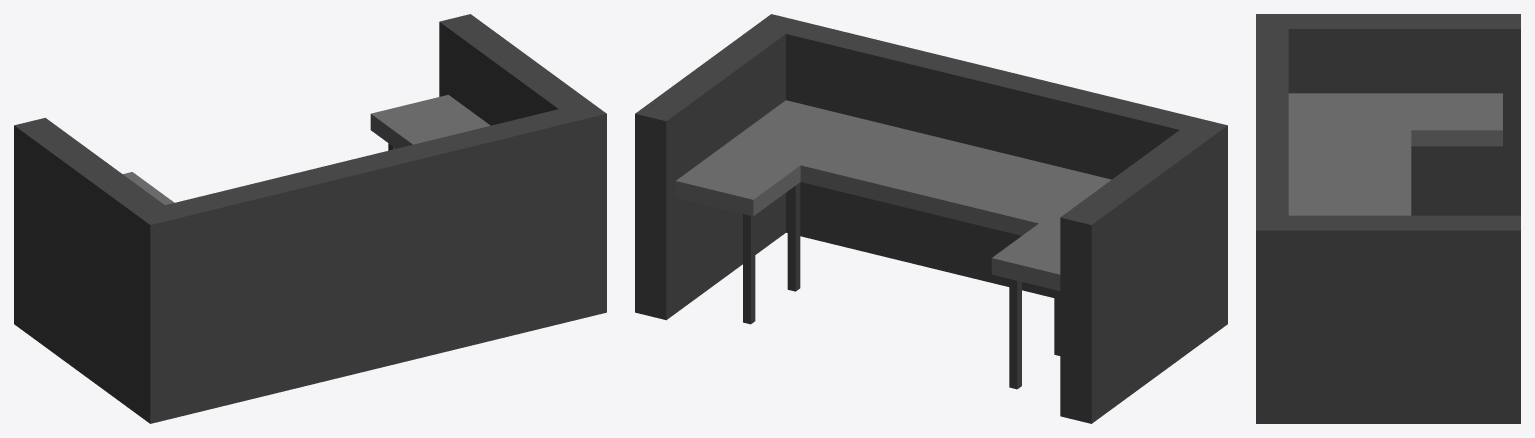
File: SM_Props_Reception_02.fbx
The picture shows the model from 3 angles, left to right: view 1: azimuth 30°, elevation 25°; view 2: azimuth 150°, elevation 25°; view 3: azimuth 270°, elevation 25°; orthographic projection. The views are drawn at different scales.
Visible parts, largest first — view 1: SM_Props_Reception_02; view 2: SM_Props_Reception_02; view 3: SM_Props_Reception_02.
Boxes of the visible parts, bbox=[...] form: SM_Props_Reception_02: bbox=[14, 14, 606, 423]; SM_Props_Reception_02: bbox=[635, 14, 1227, 423]; SM_Props_Reception_02: bbox=[1256, 14, 1520, 423].
Bounding box in the file's own units: 2.88 × 1.2 × 1.49.
